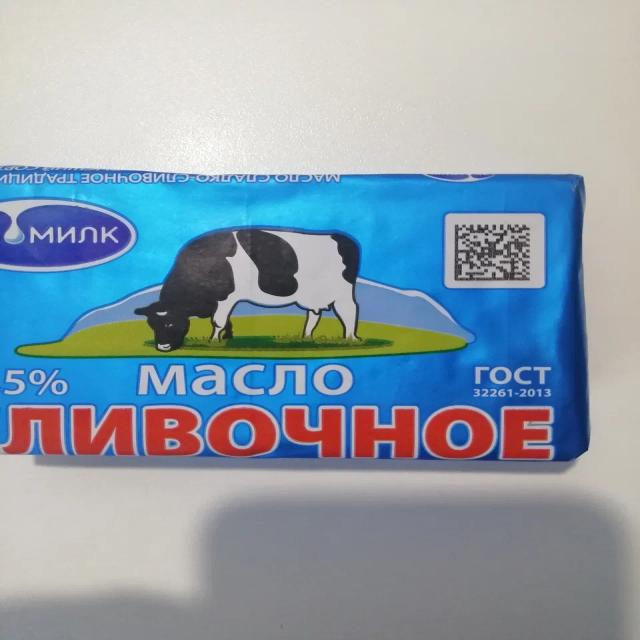datamatrix: (453, 224, 535, 284)
